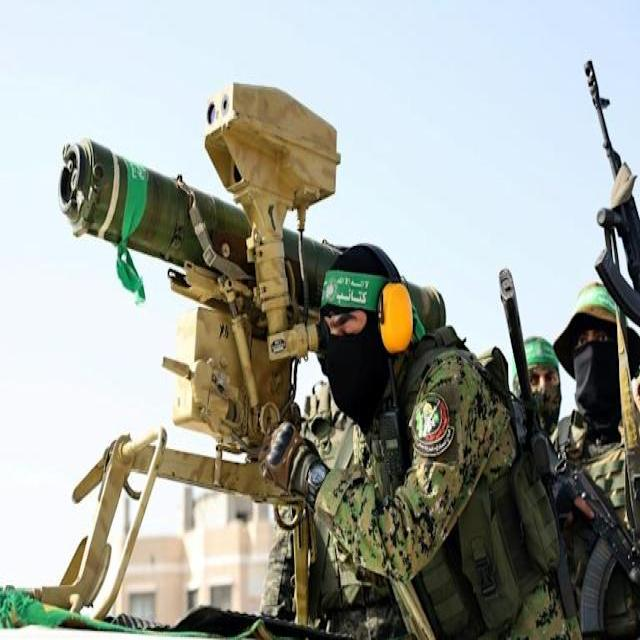bazooka: (47, 90, 452, 429)
